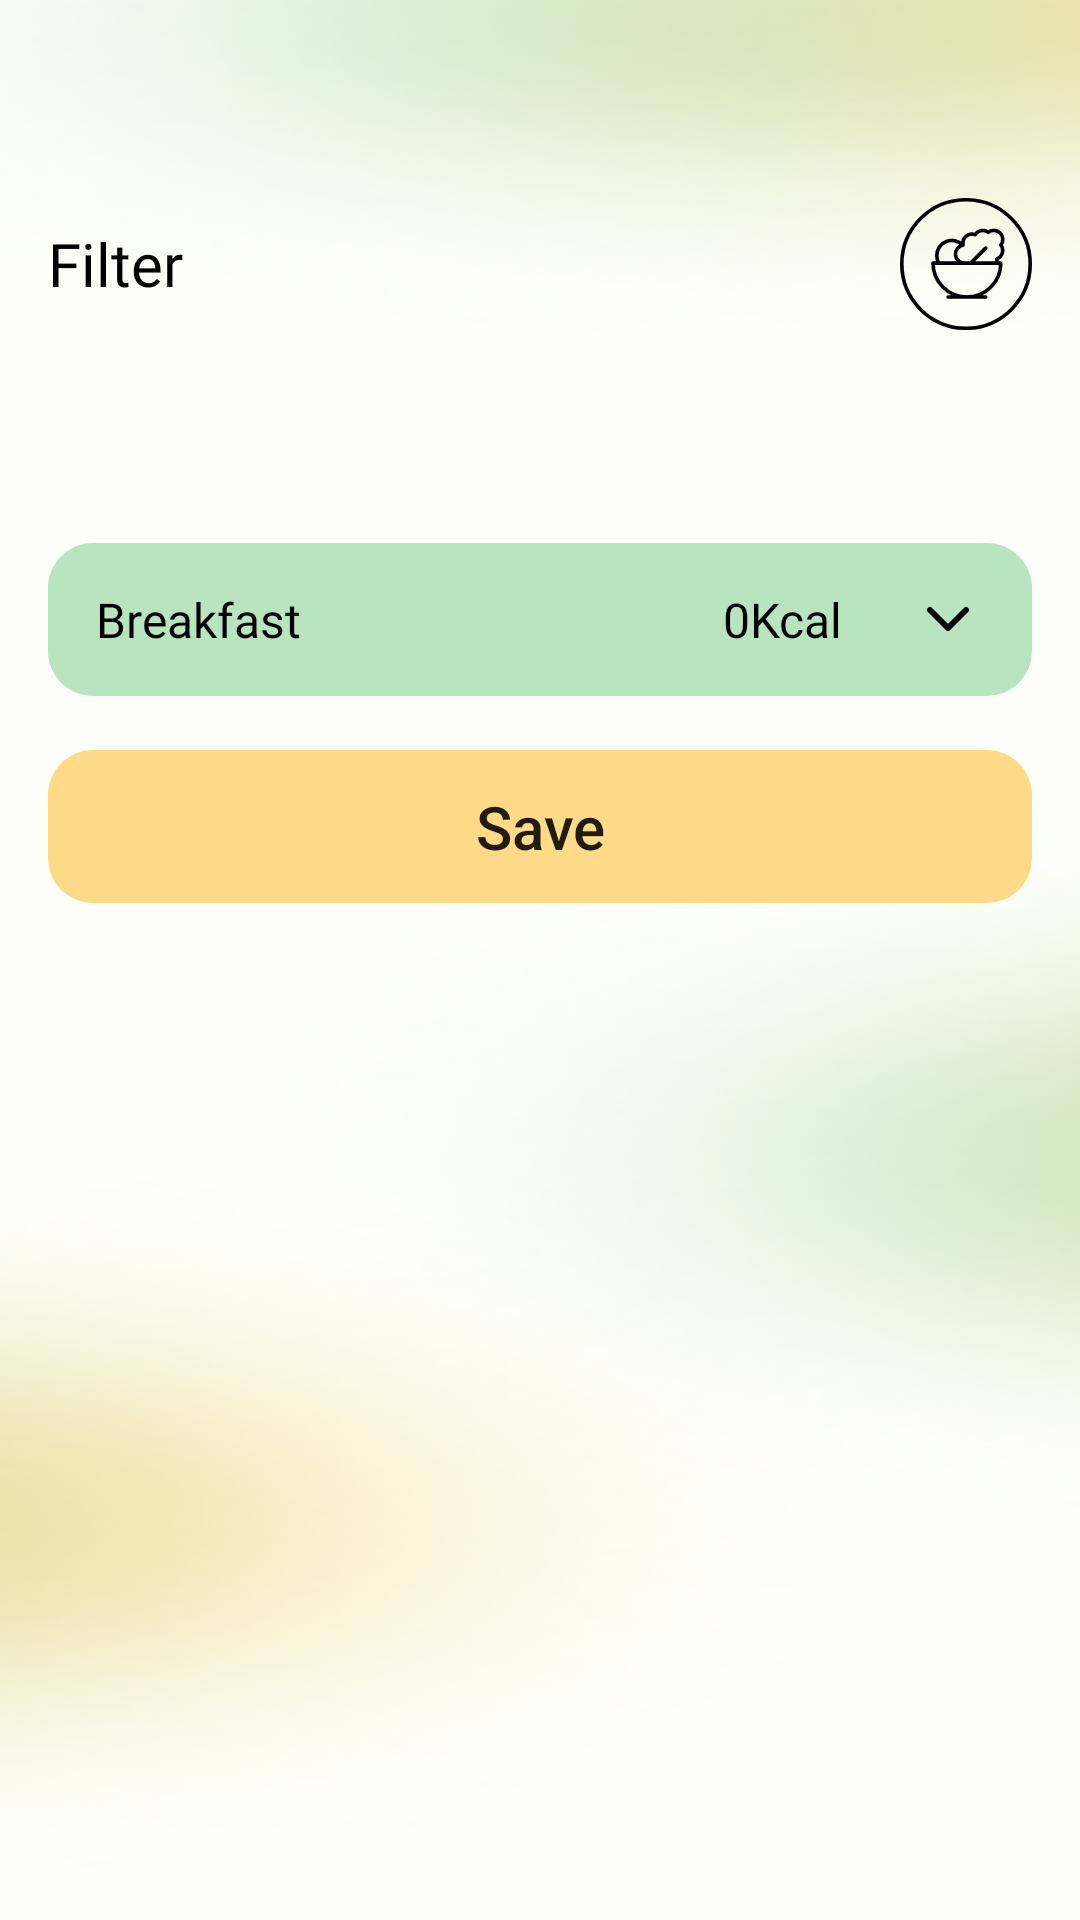

Icon bounding boxes for this 1080w x 1920h phone screenshot, format (x1, y1, x2, y2):
arrow down: (927, 607, 969, 631)
